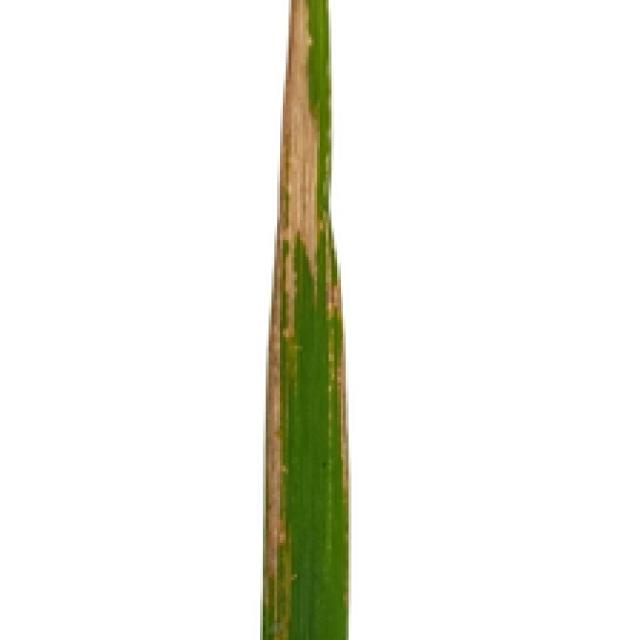Rice___Bacterial_Leaf_Blight: (257, 0, 353, 637)
